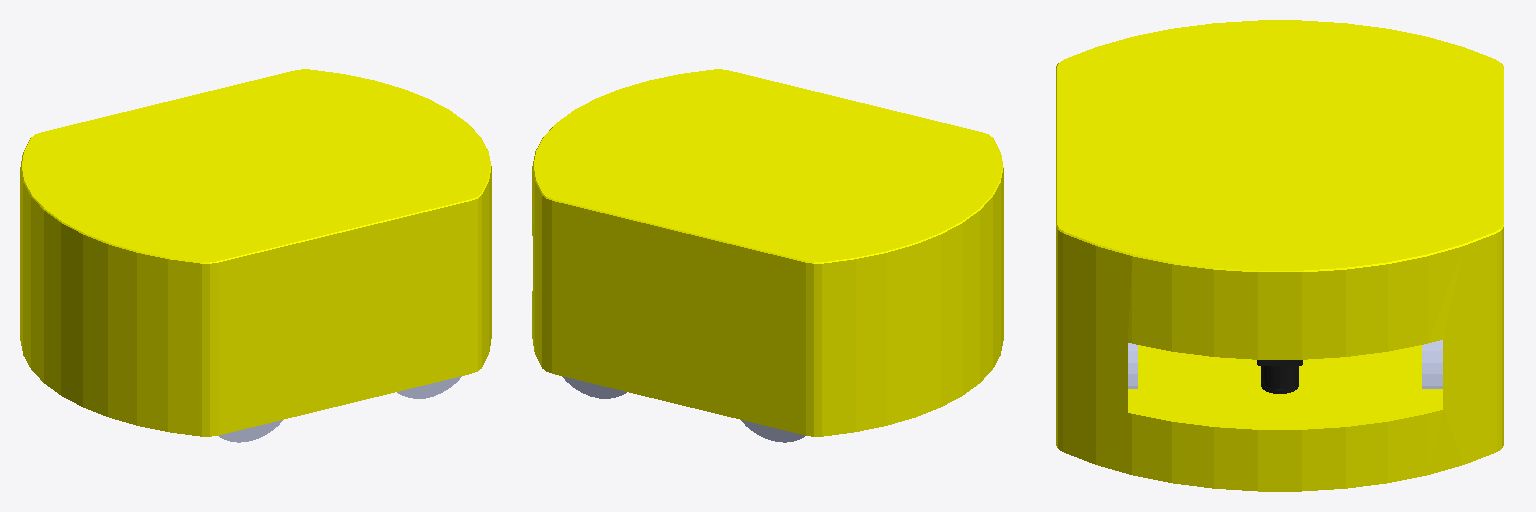
robot.urdf — aiv_finalsh3:
<?xml version="1.0"?>
<robot
  name="aiv_finalsh3">
  <link
    name="base_link">
    <inertial>
      <origin
        xyz="-0.0205547931889634 -0.000731033629879456 0.127228336259245"
        rpy="0 0 0" />
      <mass
        value="168.754504459945" />
      <inertia
        ixx="4.17621889059127"
        ixy="0.0186018201416381"
        ixz="-0.0630992884603515"
        iyy="5.69669711203428"
        iyz="-0.00224413359268311"
        izz="7.74636632731185" />
    </inertial>
    <visual>
      <origin
        xyz="0 0 0"
        rpy="0 0 0" />
      <geometry>
        <mesh
          filename="package://aiv_finalsh3/meshes/base_link.STL" />
      </geometry>
      <material
        name="">
        <color
          rgba="1 1 0 1" />
      </material>
    </visual>
    <collision>
      <origin
        xyz="0 0 0"
        rpy="0 0 0" />
      <geometry>
        <mesh
          filename="package://aiv_finalsh3/meshes/base_link.STL" />
      </geometry>
    </collision>
  </link>
  <link
    name="right_wheel1">
    <inertial>
      <origin
        xyz="-1.80938597438285E-13 -3.37160854790852E-14 0.0479999999998411"
        rpy="0 0 0" />
      <mass
        value="1.38940851892519" />
      <inertia
        ixx="0.00276634374084104"
        ixy="-3.38627612015008E-35"
        ixz="-6.86661375907486E-20"
        iyy="0.00276634374084104"
        iyz="-3.0057768047017E-35"
        izz="0.00419515021413011" />
    </inertial>
    <visual>
      <origin
        xyz="0 0 0"
        rpy="0 0 0" />
      <geometry>
        <mesh
          filename="package://aiv_finalsh3/meshes/right_wheel1.STL" />
      </geometry>
      <material
        name="">
        <color
          rgba="0.792156862745098 0.819607843137255 0.933333333333333 1" />
      </material>
    </visual>
    <collision>
      <origin
        xyz="0 0 0"
        rpy="0 0 0" />
      <geometry>
        <mesh
          filename="package://aiv_finalsh3/meshes/right_wheel1.STL" />
      </geometry>
    </collision>
  </link>
  <joint
    name="right_wheel1_joint"
    type="continuous">
    <origin
      xyz="0.139897063904446 0.14156844913427 0.0450000000000102"
      rpy="1.5707963267949 0 3.14159265358979" />
    <parent
      link="base_link" />
    <child
      link="right_wheel1" />
    <axis
      xyz="0 0 1" />
  </joint>
  <link
    name="left_wheel2">
    <inertial>
      <origin
        xyz="-9.28701560098943E-14 -3.64777652528403E-14 -0.0480000000000041"
        rpy="0 0 0" />
      <mass
        value="1.38940851892519" />
      <inertia
        ixx="0.00276634374084104"
        ixy="-1.00531223917652E-35"
        ixz="1.00047004869847E-17"
        iyy="0.00276634374084104"
        iyz="5.47129115782852E-36"
        izz="0.00419515021413011" />
    </inertial>
    <visual>
      <origin
        xyz="0 0 0"
        rpy="0 0 0" />
      <geometry>
        <mesh
          filename="package://aiv_finalsh3/meshes/left_wheel2.STL" />
      </geometry>
      <material
        name="">
        <color
          rgba="0.792156862745098 0.819607843137255 0.933333333333333 1" />
      </material>
    </visual>
    <collision>
      <origin
        xyz="0 0 0"
        rpy="0 0 0" />
      <geometry>
        <mesh
          filename="package://aiv_finalsh3/meshes/left_wheel2.STL" />
      </geometry>
    </collision>
  </link>
  <joint
    name="left_wheel2_joint"
    type="continuous">
    <origin
      xyz="0.139897063904454 -0.141724083720374 0.0450000000000127"
      rpy="1.5707963267949 0 3.14159265358979" />
    <parent
      link="base_link" />
    <child
      link="left_wheel2" />
    <axis
      xyz="0 0 1" />
  </joint>
  <link
    name="left_wheel3">
    <inertial>
      <origin
        xyz="-8.40438829641244E-14 9.73041092144911E-14 -0.0480000000000046"
        rpy="0 0 0" />
      <mass
        value="1.38940851892519" />
      <inertia
        ixx="0.00276634374084104"
        ixy="1.0075091872086E-35"
        ixz="1.00722937161756E-17"
        iyy="0.00276634374084104"
        iyz="4.11510363356561E-35"
        izz="0.00419515021413011" />
    </inertial>
    <visual>
      <origin
        xyz="0 0 0"
        rpy="0 0 0" />
      <geometry>
        <mesh
          filename="package://aiv_finalsh3/meshes/left_wheel3.STL" />
      </geometry>
      <material
        name="">
        <color
          rgba="0.792156862745098 0.819607843137255 0.933333333333333 1" />
      </material>
    </visual>
    <collision>
      <origin
        xyz="0 0 0"
        rpy="0 0 0" />
      <geometry>
        <mesh
          filename="package://aiv_finalsh3/meshes/left_wheel3.STL" />
      </geometry>
    </collision>
  </link>
  <joint
    name="left_wheel3_joint"
    type="continuous">
    <origin
      xyz="-0.139482853114889 -0.141724083720375 0.0449999999997022"
      rpy="1.5707963267949 0 3.14159265358979" />
    <parent
      link="base_link" />
    <child
      link="left_wheel3" />
    <axis
      xyz="0 0 1" />
  </joint>
  <link
    name="right_wheel4">
    <inertial>
      <origin
        xyz="7.22755189030977E-14 -3.29250515740398E-14 0.0479999999999986"
        rpy="0 0 0" />
      <mass
        value="1.38940851892519" />
      <inertia
        ixx="0.00276634374084104"
        ixy="-1.09847401603854E-38"
        ixz="-6.86661375907486E-20"
        iyy="0.00276634374084104"
        iyz="-8.15262893040505E-36"
        izz="0.00419515021413011" />
    </inertial>
    <visual>
      <origin
        xyz="0 0 0"
        rpy="0 0 0" />
      <geometry>
        <mesh
          filename="package://aiv_finalsh3/meshes/right_wheel4.STL" />
      </geometry>
      <material
        name="">
        <color
          rgba="0.792156862745098 0.819607843137255 0.933333333333333 1" />
      </material>
    </visual>
    <collision>
      <origin
        xyz="0 0 0"
        rpy="0 0 0" />
      <geometry>
        <mesh
          filename="package://aiv_finalsh3/meshes/right_wheel4.STL" />
      </geometry>
    </collision>
  </link>
  <joint
    name="right_wheel4_joint"
    type="continuous">
    <origin
      xyz="-0.139482853115031 0.14156844913422 0.0449999999996804"
      rpy="1.5707963267949 0 3.14159265358979" />
    <parent
      link="base_link" />
    <child
      link="right_wheel4" />
    <axis
      xyz="0 0 1" />
  </joint>
  <link
    name="hokuyo_link">
    <inertial>
      <origin
        xyz="-0.000780692813444839 -4.15767225388032E-05 0.00546903856585154"
        rpy="0 0 0" />
      <mass
        value="0.134683421856803" />
      <inertia
        ixx="7.23289314303304E-05"
        ixy="-3.07307453428314E-07"
        ixz="6.6088930249849E-07"
        iyy="7.60198201005007E-05"
        iyz="1.05297506302451E-07"
        izz="4.80658661333216E-05" />
    </inertial>
    <visual>
      <origin
        xyz="0 0 0"
        rpy="0 0 0" />
      <geometry>
        <mesh
          filename="package://aiv_finalsh3/meshes/hokuyo_link.STL" />
      </geometry>
      <material
        name="">
        <color
          rgba="0.156862745098039 0.156862745098039 0.156862745098039 1" />
      </material>
    </visual>
    <collision>
      <origin
        xyz="0 0 0"
        rpy="0 0 0" />
      <geometry>
        <mesh
          filename="package://aiv_finalsh3/meshes/hokuyo_link.STL" />
      </geometry>
    </collision>
  </link>
  <joint
    name="hokuyo_link_joint"
    type="fixed">
    <origin
      xyz="0.285 0 0.138"
      rpy="7.0442E-15 -1.6389E-30 1.0616E-14" />
    <parent
      link="base_link" />
    <child
      link="hokuyo_link" />
    <axis
      xyz="1 0 0" />
  </joint>
</robot>

--- Facts derived from the render (not from the file) ---
The picture shows the robot from 3 angles, left to right: view 1: azimuth 30°, elevation 25°; view 2: azimuth 150°, elevation 25°; view 3: azimuth 270°, elevation 25°; orthographic projection.
Robot: aiv_finalsh3 — 6 links, 5 joints (4 continuous, 1 fixed); root link base_link; default pose: every joint at zero.
Links seen in each view (by area): view 1: base_link, left_wheel2, left_wheel3; view 2: base_link, right_wheel1, right_wheel4; view 3: base_link, hokuyo_link, right_wheel1.
Boxes of the visible links, box(x1,y1,x2,y2) form: base_link: box(20, 69, 491, 436); left_wheel2: box(397, 376, 461, 398); left_wheel3: box(219, 420, 282, 442); base_link: box(532, 69, 1003, 436); right_wheel1: box(562, 376, 626, 398); right_wheel4: box(741, 420, 804, 442); base_link: box(1056, 20, 1503, 491); hokuyo_link: box(1257, 360, 1302, 393); right_wheel1: box(1422, 340, 1442, 388).
Bounding box of the posed robot: 0.6361 × 0.48 × 0.2867 m (x, y, z).
Meshes: 6 distinct files referenced, 6 mesh visuals loaded (6 binary STL).